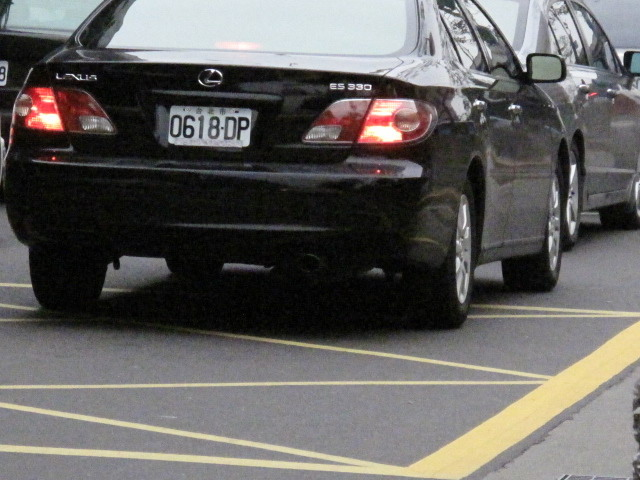plate: (166, 102, 254, 151)
